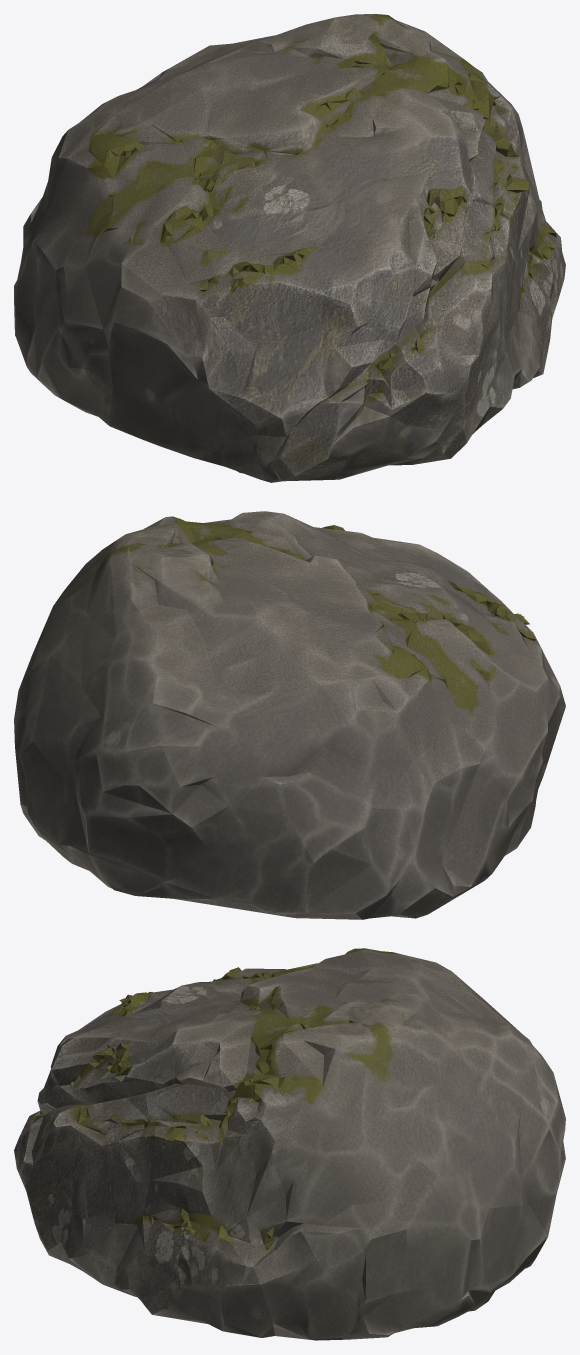
File: mossy-boulder-3.glb
3 renders of one model, top to bottom at view 1: azimuth 30°, elevation 25°; view 2: azimuth 150°, elevation 25°; view 3: azimuth 270°, elevation 25°, orthographic. The views are drawn at different scales.
Visible parts, largest first — view 1: output_unwrapped; view 2: output_unwrapped; view 3: output_unwrapped.
Boxes of the visible parts, x1=… form: output_unwrapped: x1=14, y1=14, x2=565, y2=482; output_unwrapped: x1=14, y1=511, x2=565, y2=919; output_unwrapped: x1=14, y1=948, x2=565, y2=1340.
Size of the model in its own units: 0.9637 by 0.5713 by 1.
Materials: 1 (1 with a texture image).
